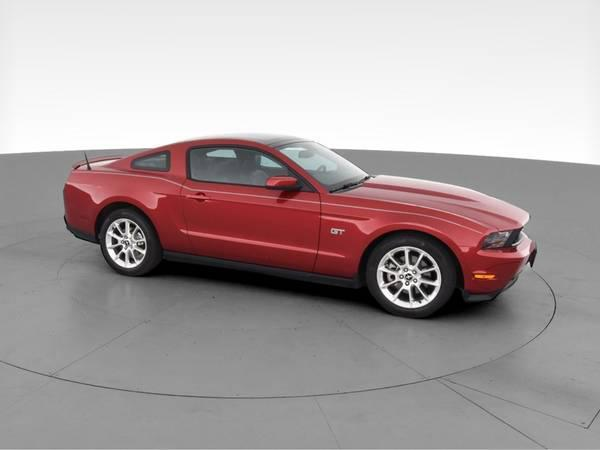Front_Bumper: (451, 239, 537, 305)
Front_Fender: (315, 195, 501, 288)
Front_Right_Door: (185, 182, 322, 283)
Front_Right_Window: (186, 146, 315, 193)
Front_Windshield: (276, 142, 372, 192)
Hood: (332, 174, 528, 230)
Rear_Bumper: (63, 207, 97, 244)
Rear_Fender: (64, 148, 197, 260)
Right_Headlight: (480, 228, 521, 250)
Roof: (106, 133, 323, 193)
Wheel: (369, 237, 459, 319), (97, 206, 159, 273)
